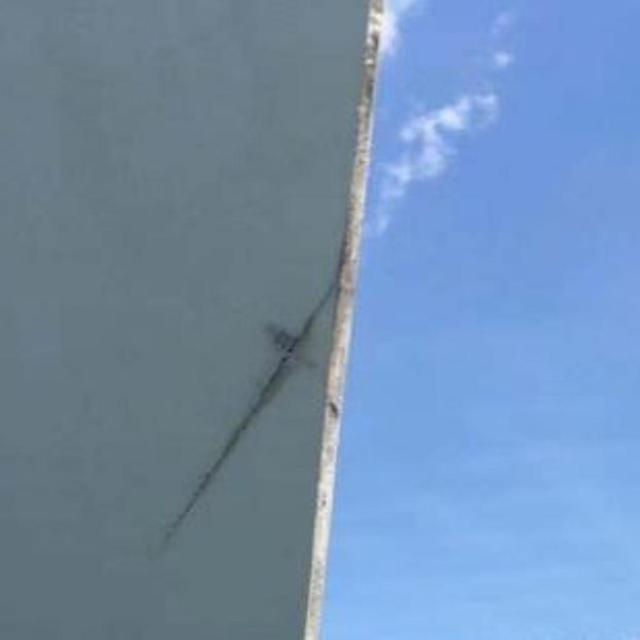crack: (171, 287, 330, 535)
